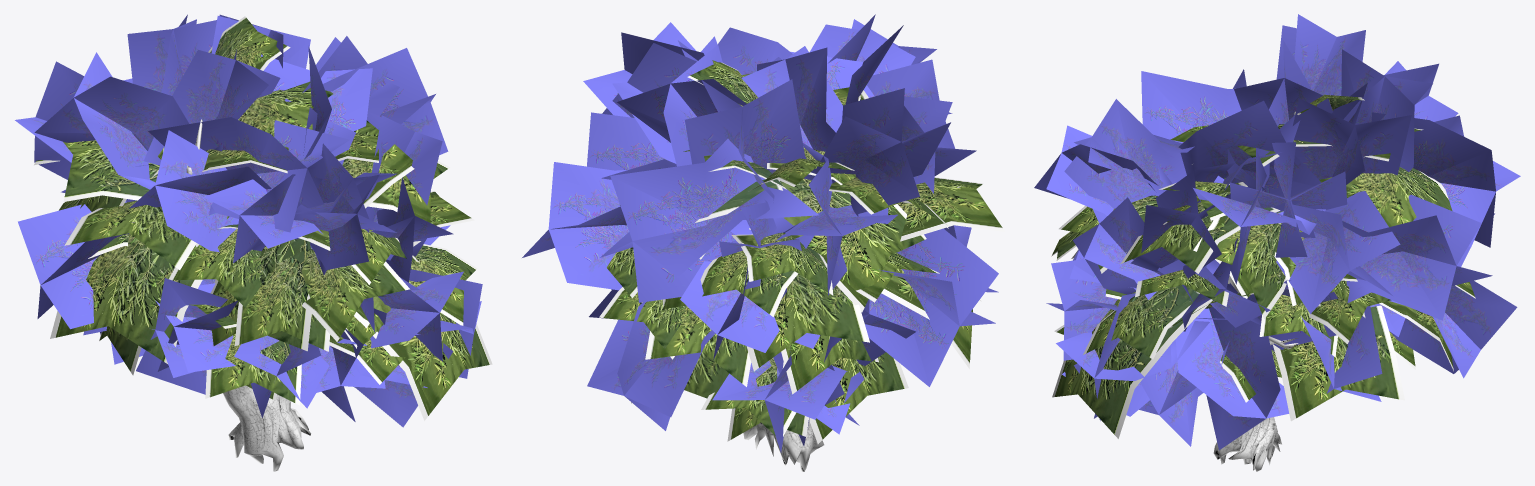
The model's file is OliveTree00a.fbx.
The picture shows the model from 3 angles, left to right: view 1: azimuth 30°, elevation 25°; view 2: azimuth 150°, elevation 25°; view 3: azimuth 270°, elevation 25°; orthographic projection. The views are drawn at different scales.
Parts seen in each view (by area): view 1: LeavesPlaneB030, LeavesPlaneB032, LeavesPlane057, LeavesPlaneB017, LeavesPlaneB029, LeavesPlaneB033, LeavesPlane058, LeavesPlane010, Olivetree00LOW, LeavesPlaneB037, LeavesPlane012, LeavesPlaneB013 (+35 smaller); view 2: LeavesPlaneB036, LeavesPlaneB029, LeavesPlaneB030, LeavesPlaneB041, LeavesPlaneB037, LeavesPlaneB039, LeavesPlane037, LeavesPlaneB033, LeavesPlane036, LeavesPlaneB040, LeavesPlaneB035, LeavesPlaneB027 (+32 smaller); view 3: LeavesPlaneB041, LeavesPlaneB012, LeavesPlaneB043, LeavesPlaneB040, LeavesPlaneB014, LeavesPlaneB036, LeavesPlaneB013, LeavesPlane054, LeavesPlaneB039, LeavesPlane058, LeavesPlaneB032, LeavesPlaneB006 (+28 smaller).
Boxes of the visible parts, <box> form: LeavesPlaneB030: <box>34,52,205,202</box>; LeavesPlaneB032: <box>148,117,349,232</box>; LeavesPlane057: <box>50,233,202,363</box>; LeavesPlaneB017: <box>129,130,271,252</box>; LeavesPlaneB029: <box>18,201,129,329</box>; LeavesPlaneB033: <box>144,49,280,168</box>; LeavesPlane058: <box>354,280,492,420</box>; LeavesPlane010: <box>302,248,409,341</box>; Olivetree00LOW: <box>131,119,310,471</box>; LeavesPlaneB037: <box>127,17,231,95</box>; LeavesPlane012: <box>234,256,330,351</box>; LeavesPlaneB013: <box>261,46,372,159</box>; LeavesPlaneB036: <box>600,139,818,302</box>; LeavesPlaneB029: <box>865,228,998,386</box>; LeavesPlaneB030: <box>804,88,950,216</box>; LeavesPlaneB041: <box>522,162,629,290</box>; LeavesPlaneB037: <box>685,79,806,202</box>; LeavesPlaneB039: <box>587,302,715,430</box>; LeavesPlane037: <box>749,178,926,312</box>; LeavesPlaneB033: <box>741,46,842,151</box>; LeavesPlane036: <box>746,274,869,371</box>; LeavesPlaneB040: <box>617,45,746,166</box>; LeavesPlaneB035: <box>680,220,798,359</box>; LeavesPlaneB027: <box>712,346,847,452</box>; LeavesPlaneB041: <box>1342,194,1492,320</box>; LeavesPlaneB012: <box>1175,283,1289,450</box>; LeavesPlaneB043: <box>1276,191,1400,313</box>; LeavesPlaneB040: <box>1293,83,1411,210</box>; LeavesPlaneB014: <box>1064,99,1186,208</box>; LeavesPlaneB036: <box>1371,112,1520,247</box>; LeavesPlaneB013: <box>1178,100,1321,212</box>; LeavesPlane054: <box>1272,305,1404,421</box>; LeavesPlaneB039: <box>1389,280,1517,378</box>; LeavesPlane058: <box>1052,285,1212,438</box>; LeavesPlaneB032: <box>1141,71,1241,152</box>; LeavesPlaneB006: <box>1073,197,1178,299</box>.
Bounding box in the file's own units: 878 × 912 × 998.
